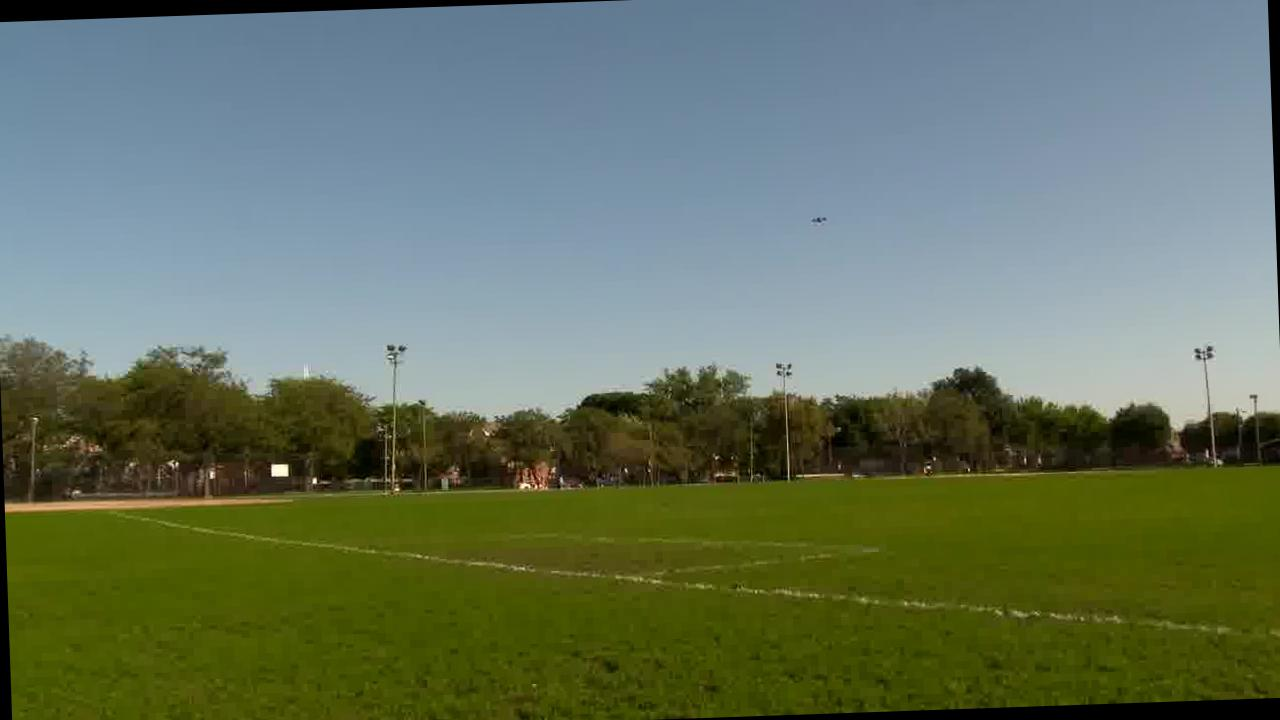drone: (800, 200, 836, 238)
